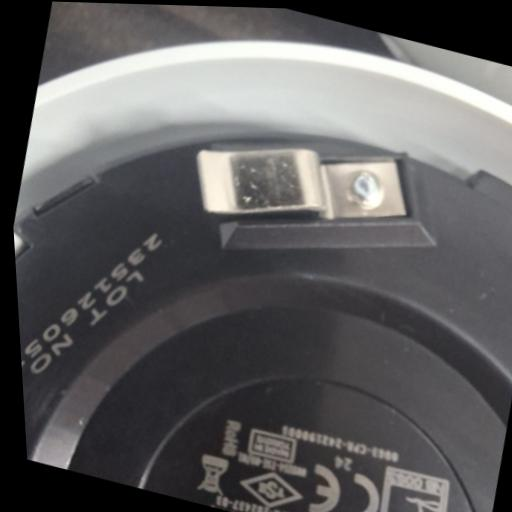yaysiz: (177, 107, 427, 270)
